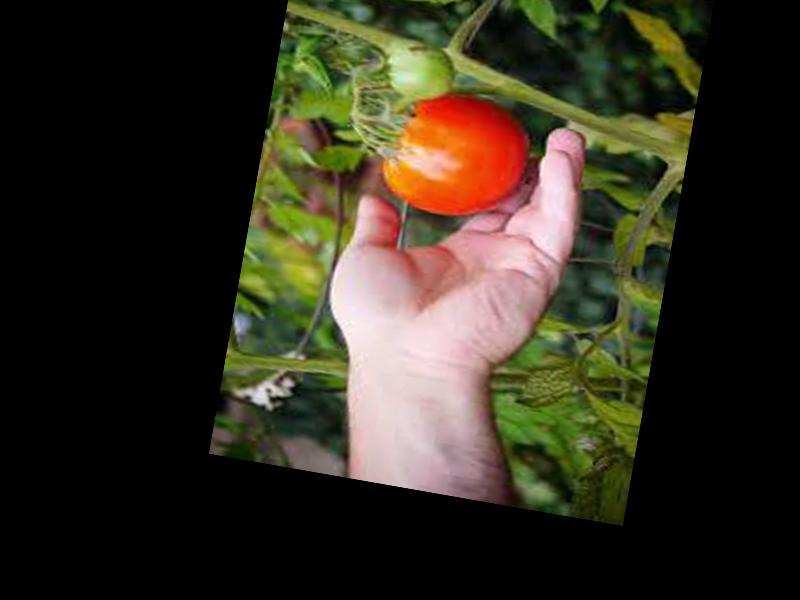Tomato: (372, 79, 536, 228)
